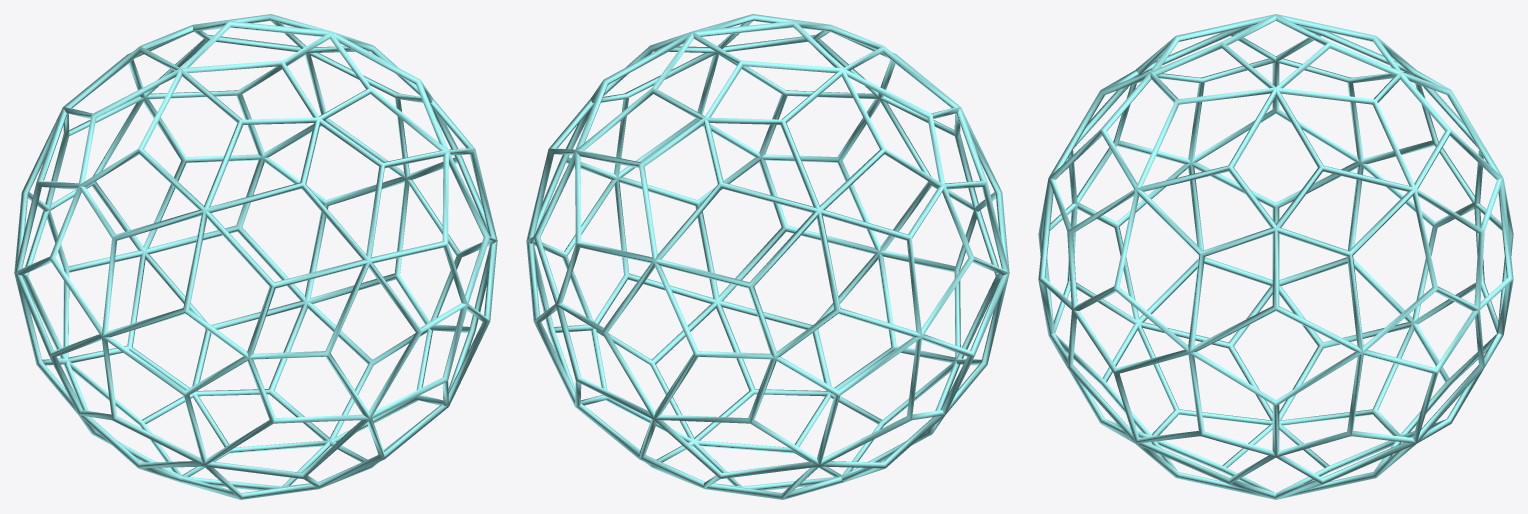
File: SmallHexagonalHexecontahedron1.glb
3 views of the same model, side by side, from view 1: azimuth 30°, elevation 25°; view 2: azimuth 150°, elevation 25°; view 3: azimuth 270°, elevation 25° (orthographic).
Visible parts, largest first — view 1: SmallHexagonalHexecontahedron; view 2: SmallHexagonalHexecontahedron; view 3: SmallHexagonalHexecontahedron.
Boxes of the visible parts, <box> form: SmallHexagonalHexecontahedron: <box>14,14,497,499</box>; SmallHexagonalHexecontahedron: <box>526,14,1009,499</box>; SmallHexagonalHexecontahedron: <box>1038,14,1513,499</box>.
Bounding box in the file's own units: 2.77 × 2.77 × 2.77.
